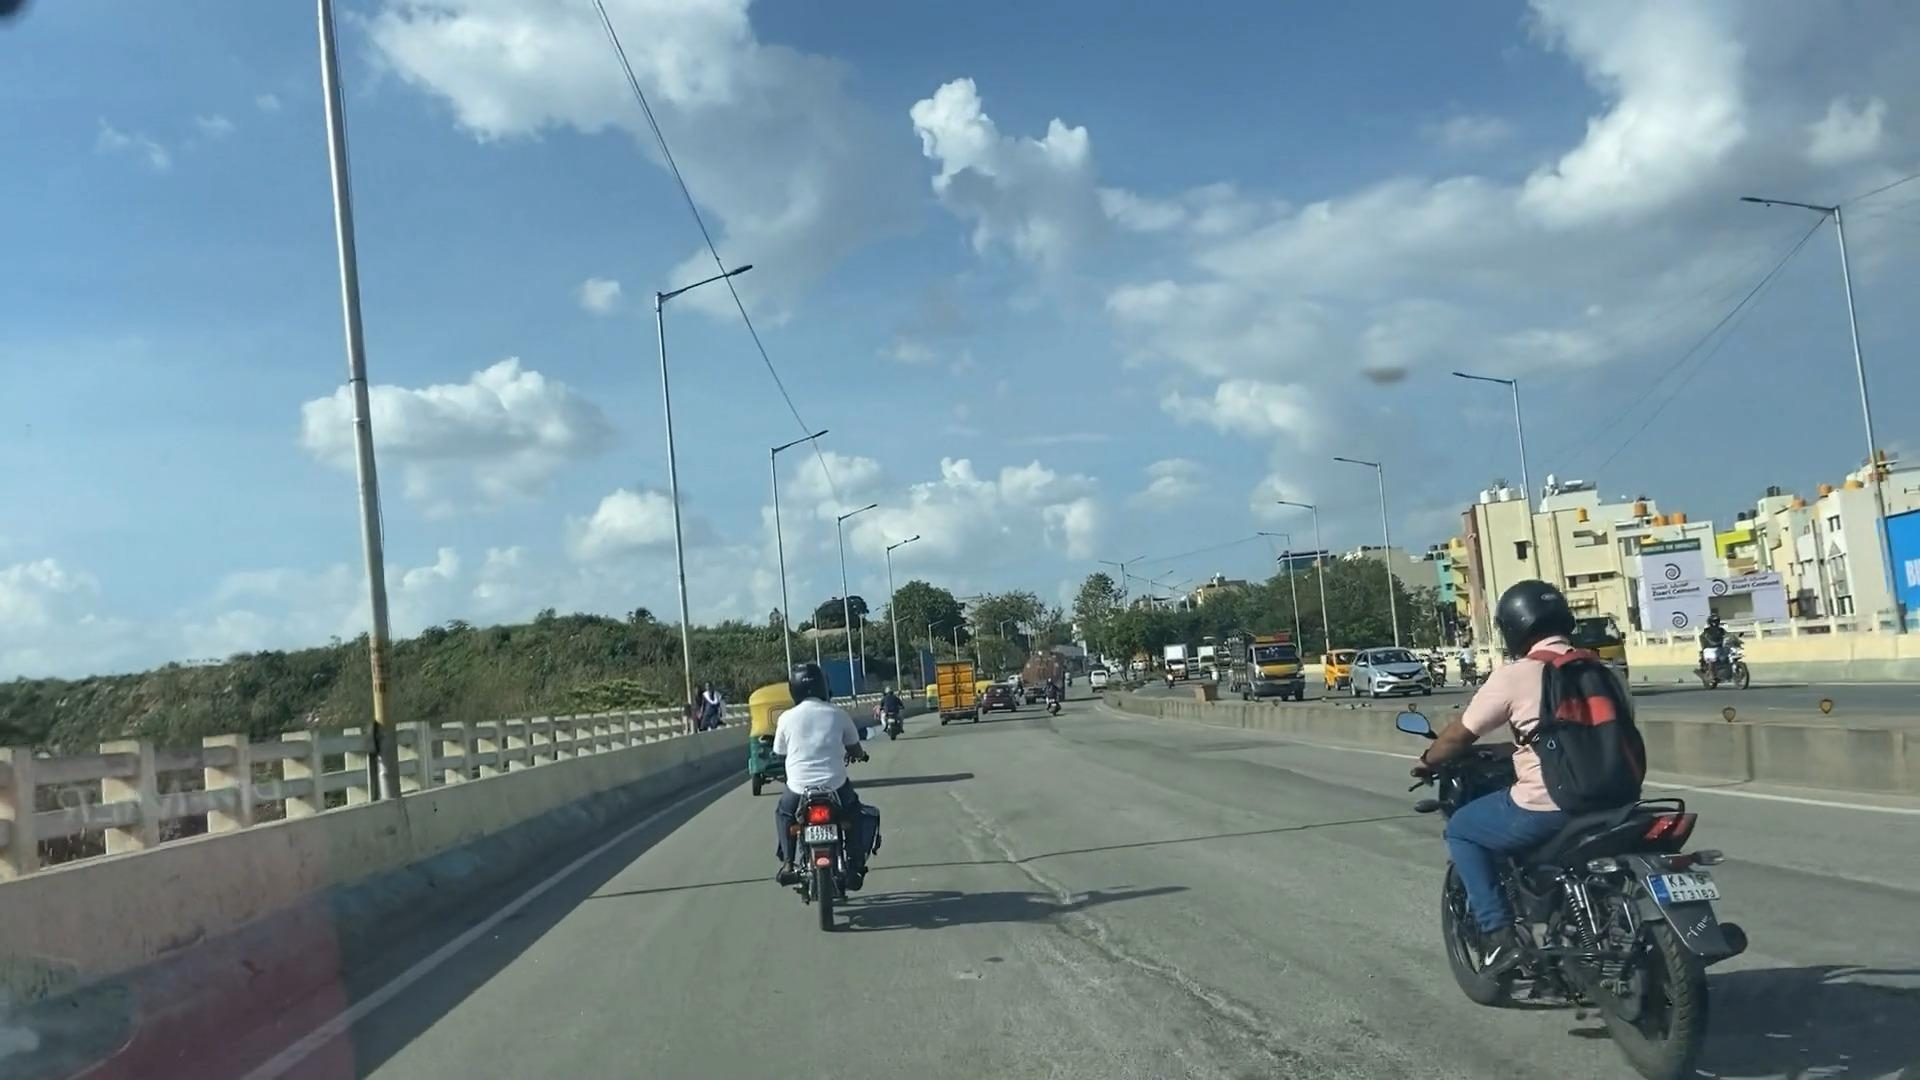LMV: (1373, 550, 1743, 1080)
